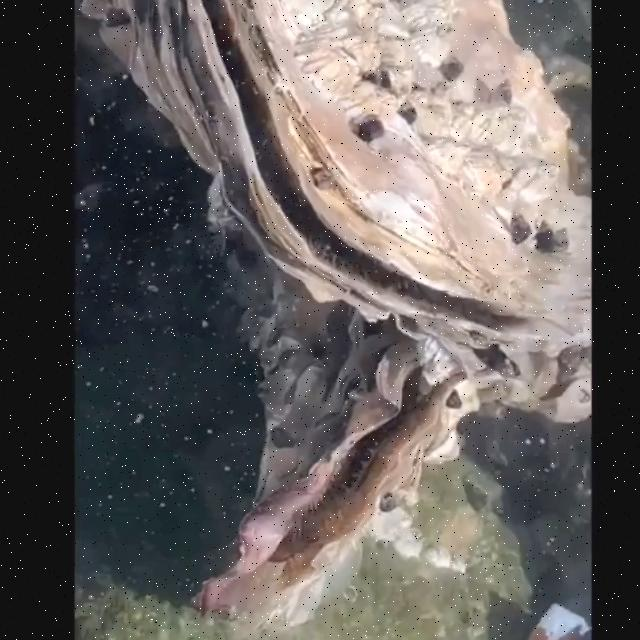Oyster-Open: (76, 0, 596, 360), (192, 248, 516, 640)
